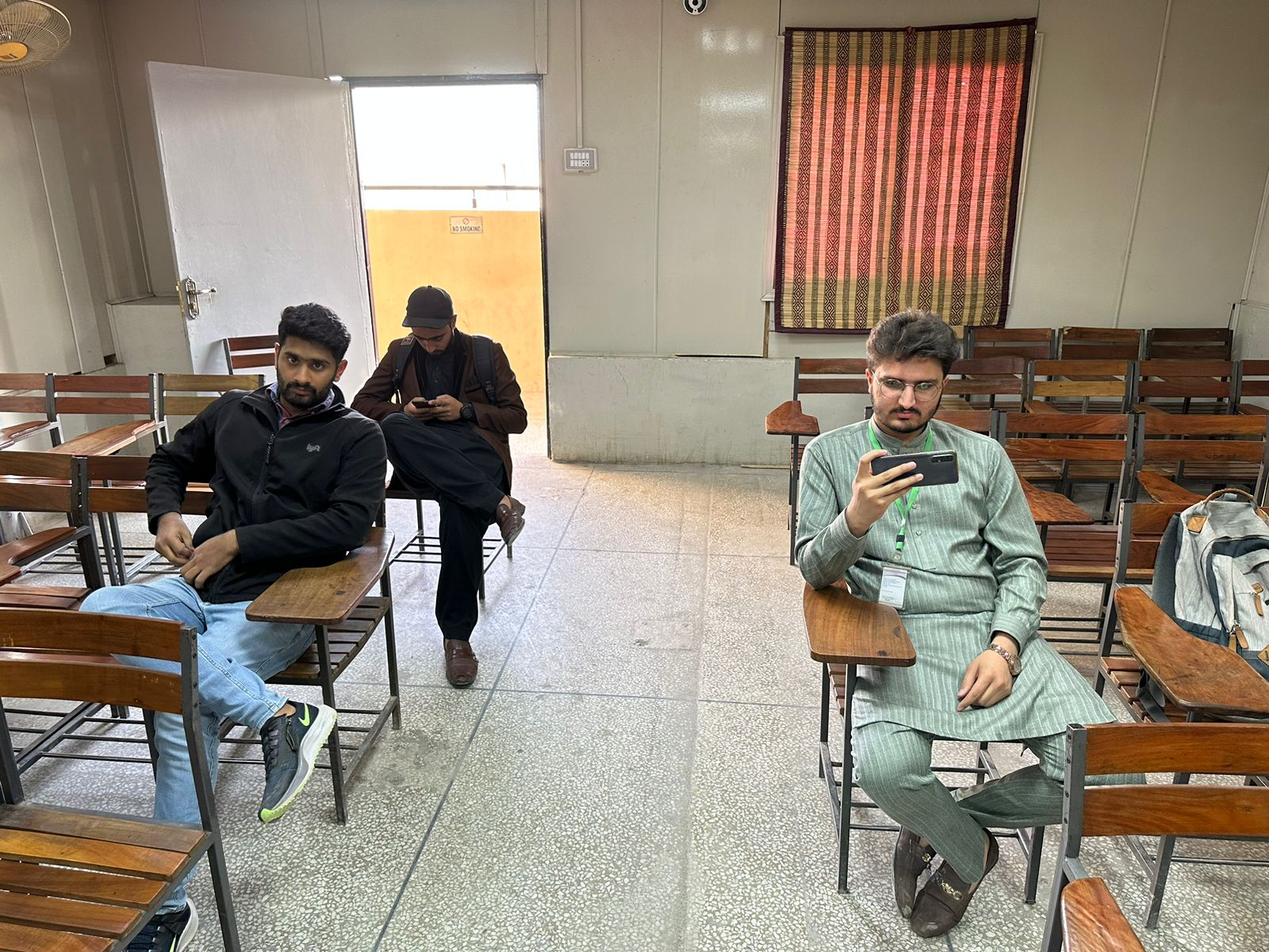non-cheating: (274, 302, 352, 409)
phone: (855, 447, 961, 512), (406, 393, 459, 422)
